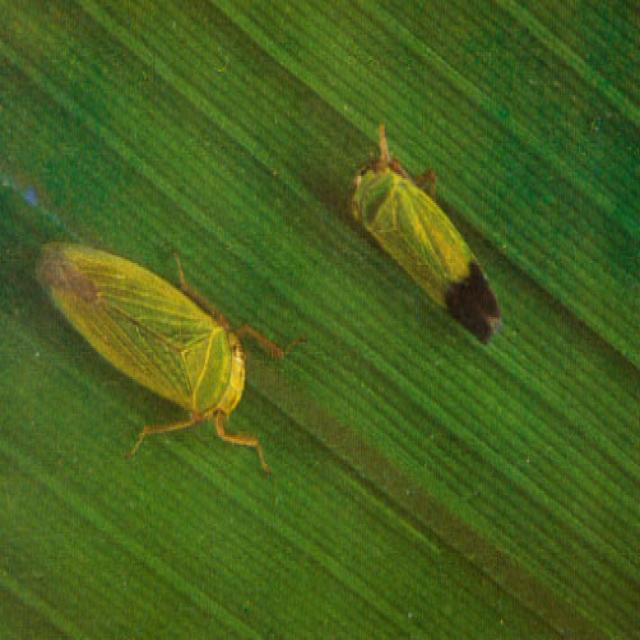Yechan: (34, 212, 266, 482), (333, 131, 513, 361)
